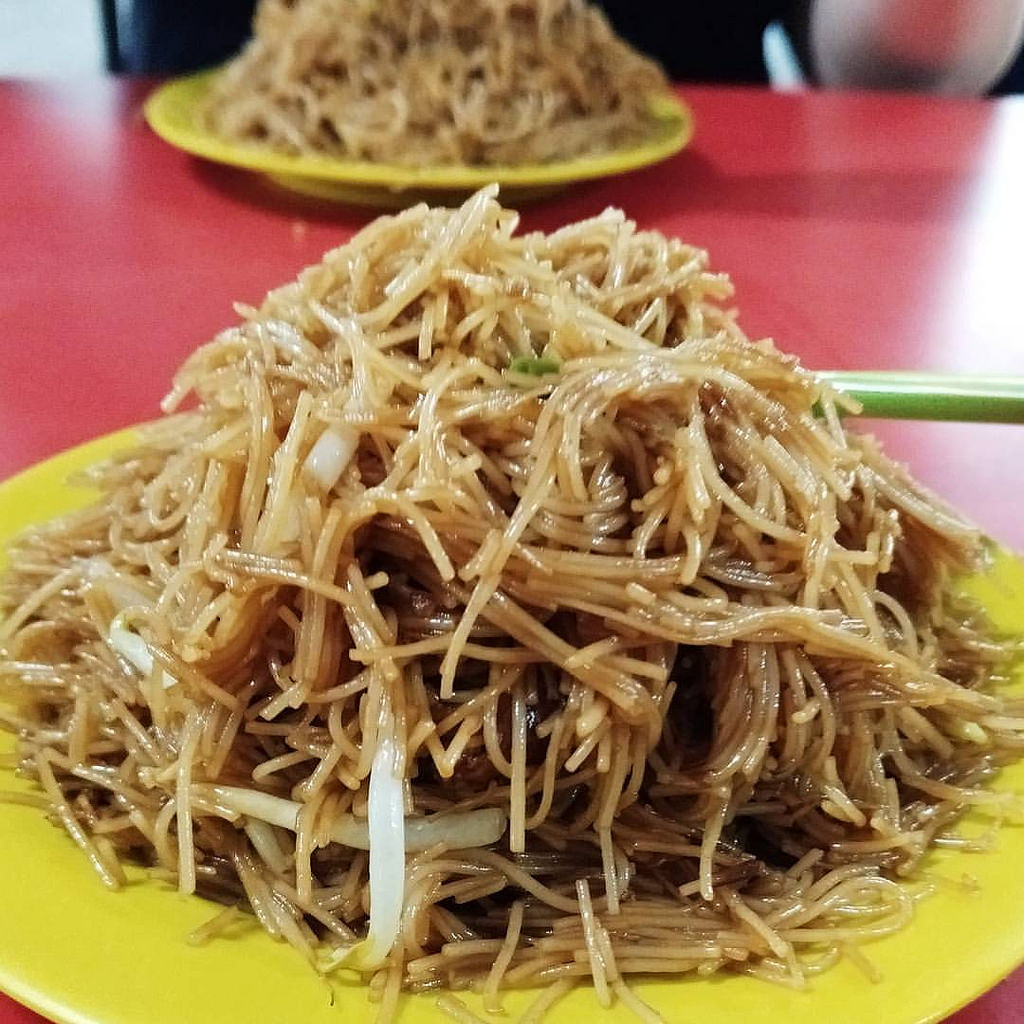plain spaghetti: (317, 296, 752, 830), (283, 7, 588, 142)
